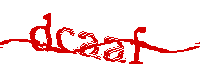a: (78, 30, 102, 60), (103, 36, 125, 64)
c: (56, 25, 75, 54)
d: (29, 12, 54, 52)
f: (129, 26, 146, 66)
